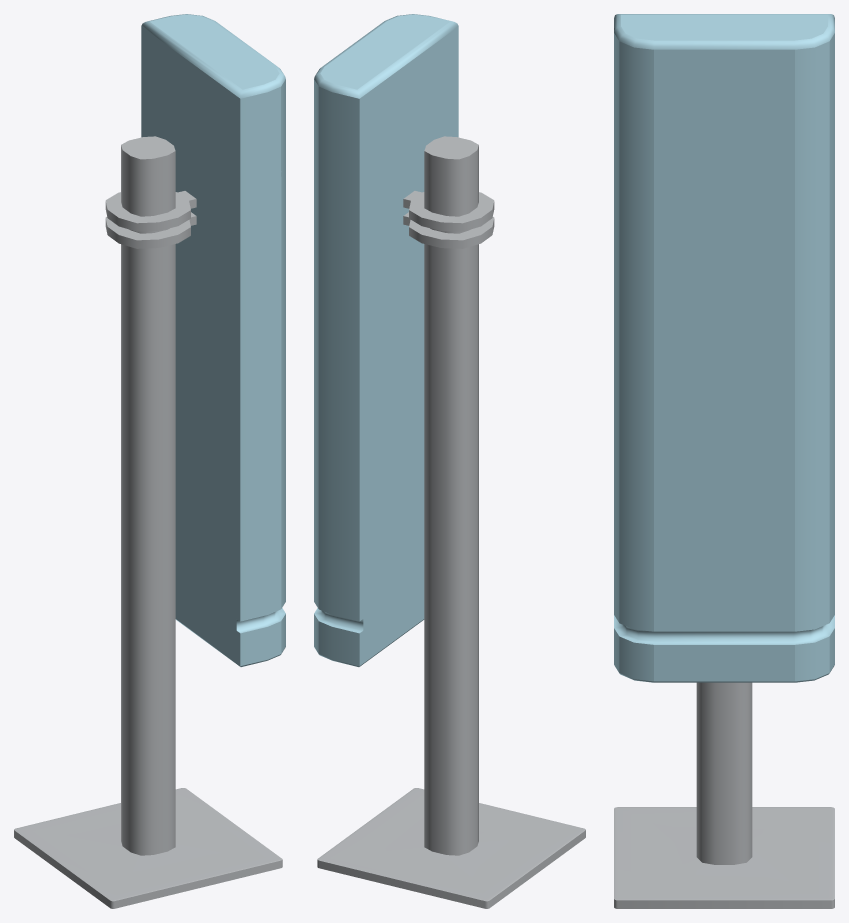
The model's file is Panel_Antenna.fbx.
3 renders of one model, left to right at view 1: azimuth 30°, elevation 25°; view 2: azimuth 150°, elevation 25°; view 3: azimuth 270°, elevation 25°, orthographic. The views are drawn at different scales.
Parts seen in each view (by area): view 1: Antenna_Panel, Antenna_Bracket; view 2: Antenna_Panel, Antenna_Bracket; view 3: Antenna_Panel, Antenna_Bracket.
Part boxes in pixels (x1,y1,x2,y2): Antenna_Panel: (141, 14, 285, 667); Antenna_Bracket: (14, 136, 282, 908); Antenna_Panel: (314, 14, 458, 667); Antenna_Bracket: (317, 136, 585, 908); Antenna_Panel: (614, 14, 834, 682); Antenna_Bracket: (614, 682, 834, 908).
Bounding box in the file's own units: 38.58 × 155 × 35.42.
